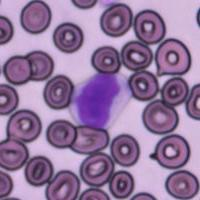L: (69, 70, 132, 130)
